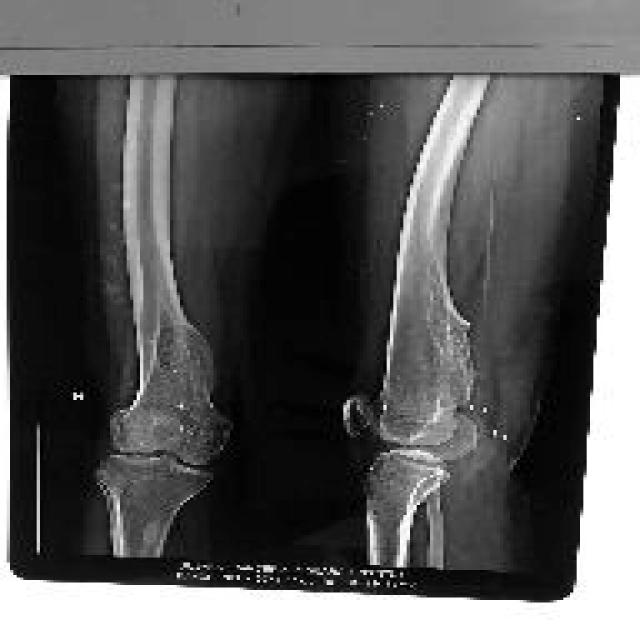bone-cancer: (156, 310, 218, 423), (426, 295, 472, 411), (422, 417, 479, 459)
